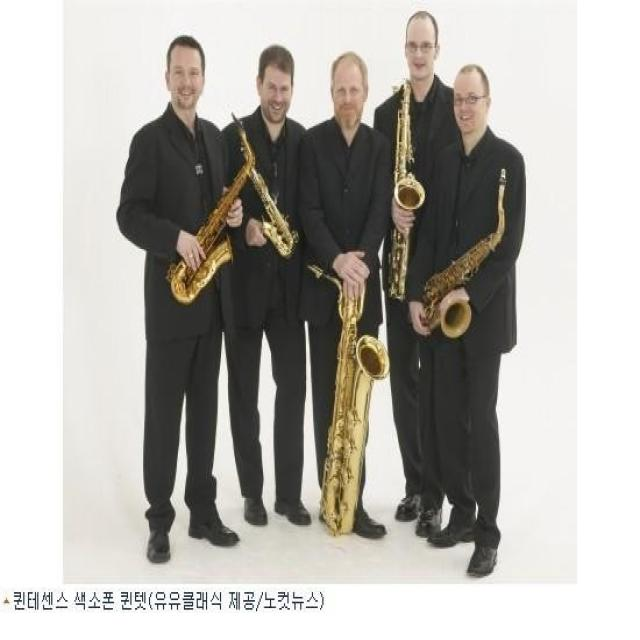saxophone: (307, 260, 391, 548), (414, 163, 522, 344), (168, 111, 258, 310), (227, 97, 306, 263), (385, 75, 420, 302)
